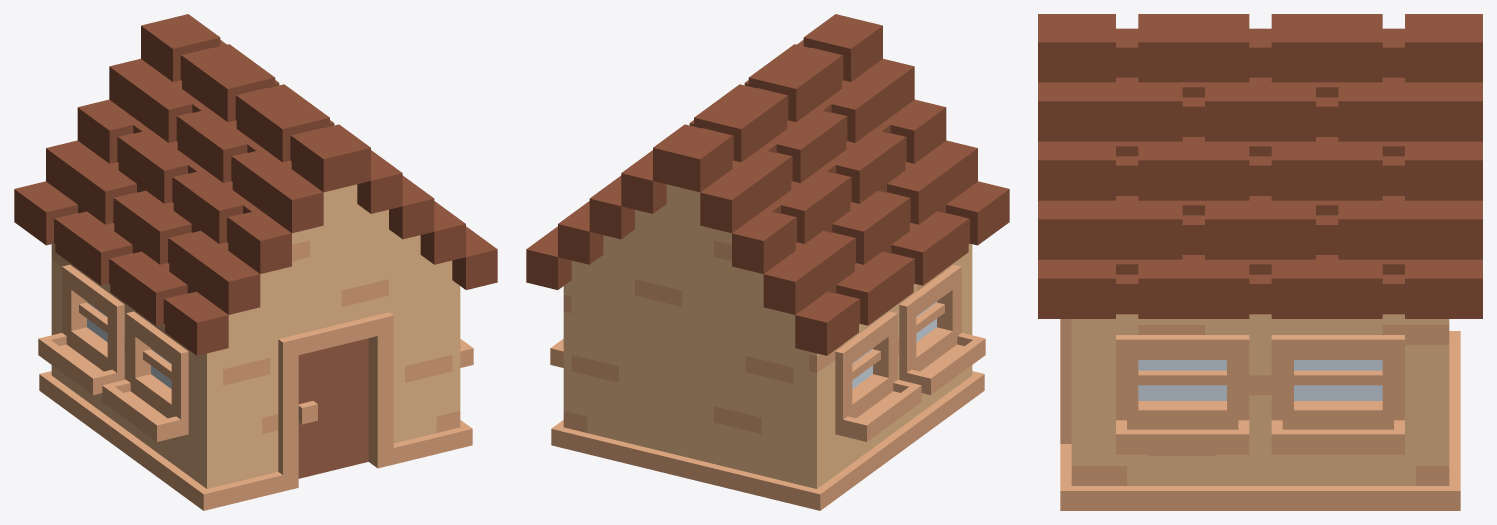
The model's file is village_building_1.glb.
The picture shows the model from 3 angles, left to right: view 1: azimuth 30°, elevation 25°; view 2: azimuth 150°, elevation 25°; view 3: azimuth 270°, elevation 25°; orthographic projection. The views are drawn at different scales.
Visible parts, largest first — view 1: village_building_1; view 2: village_building_1; view 3: village_building_1.
Boxes of the visible parts, x1=… form: village_building_1: x1=14, y1=14, x2=497, y2=510; village_building_1: x1=526, y1=14, x2=1009, y2=510; village_building_1: x1=1038, y1=14, x2=1482, y2=510.
Bounding box in the file's own units: 4 × 4 × 4.
1 material, 1 textured.
